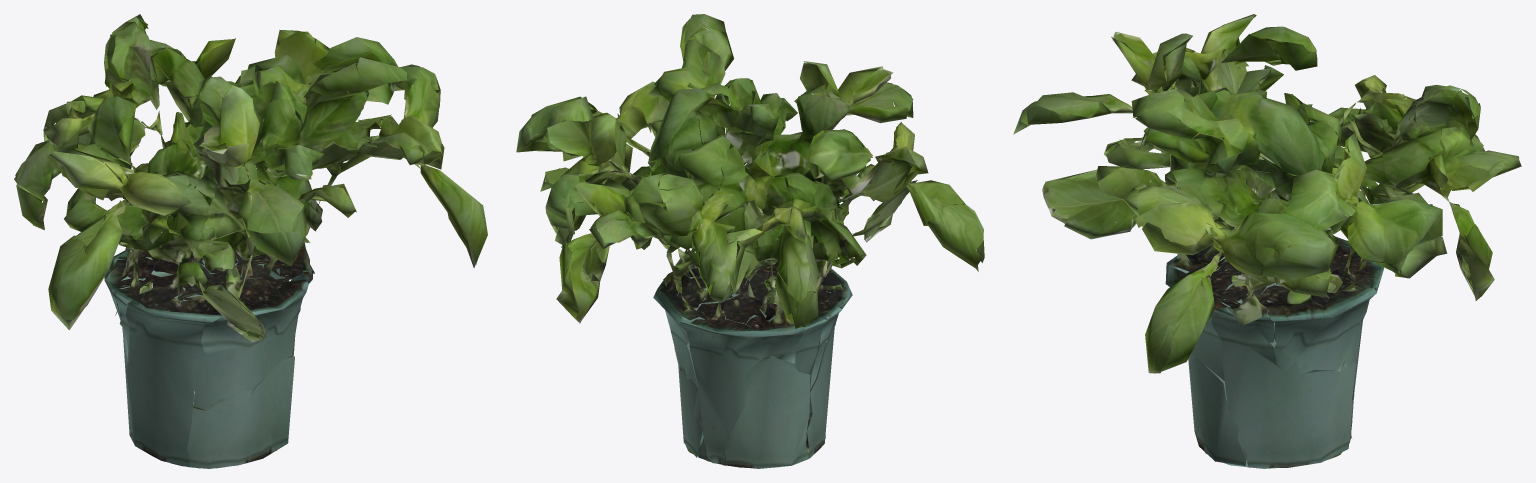
Rendered from Potted_plant_basil.glb.
The picture shows the model from 3 angles, left to right: view 1: azimuth 30°, elevation 25°; view 2: azimuth 150°, elevation 25°; view 3: azimuth 270°, elevation 25°; orthographic projection. The views are drawn at different scales.
Visible parts, largest first — view 1: basil; view 2: basil; view 3: basil.
Boxes of the visible parts, x1,y1,x2,y2 form: basil: [14, 14, 487, 468]; basil: [516, 14, 984, 468]; basil: [1013, 14, 1521, 468].
Bounding box in the file's own units: 0.4062 × 0.3437 × 0.3956.
Materials: 1 (1 with a texture image).
